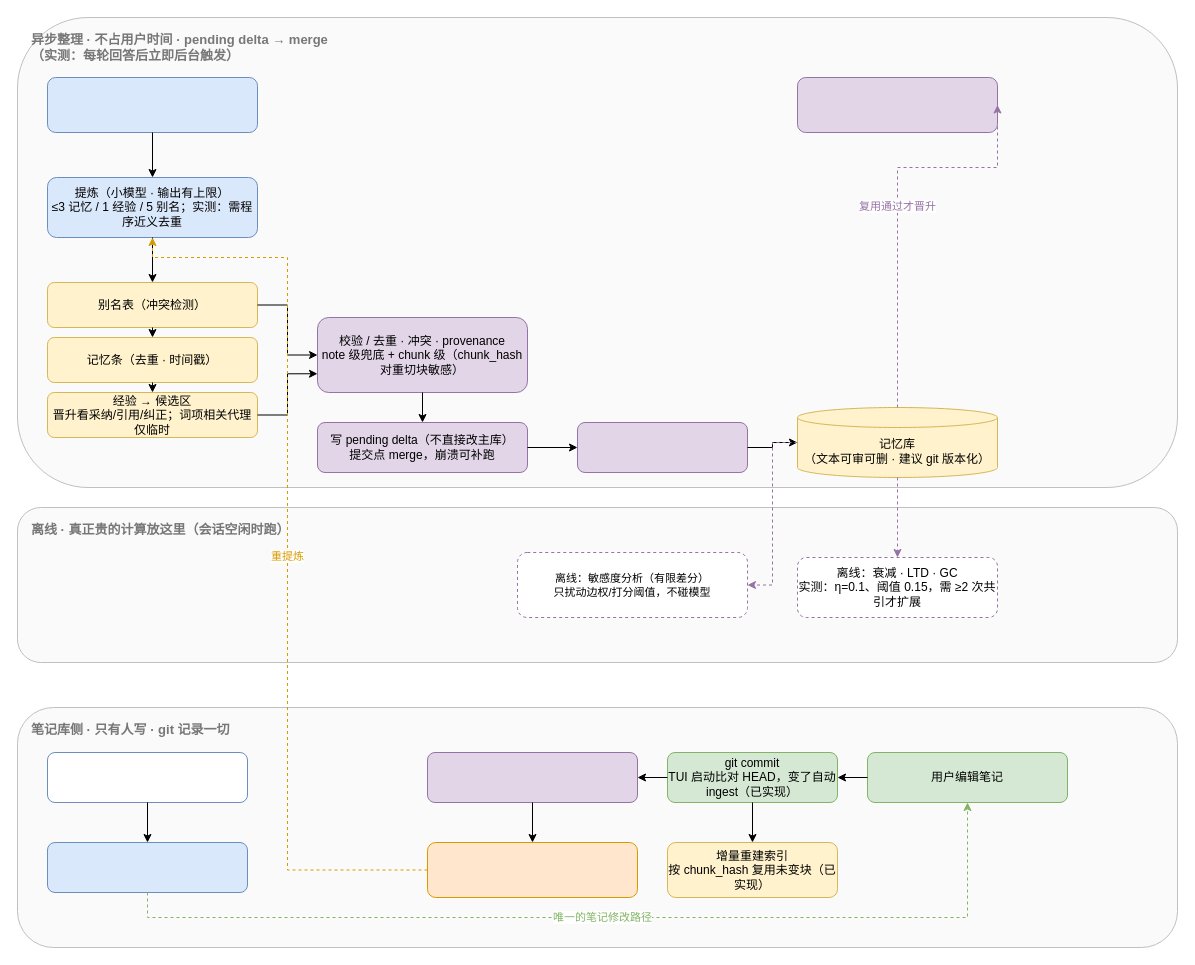
The diagram is 1195 pixels wide and 965 high, and some of its shapes have lost their labels. The shapes that lost their labels are listed below. From the top down, each one's centre as x and y in pixels, then its label:
At (x=152, y=104): "回答结束 立即 / 每 N 轮 / 空闲批处理（已实现）".
At (x=897, y=104): "恒定 skill（稳定规则） 经验晋升进动态块，不拼进稳定前缀".
At (x=662, y=447): "提交点合并".
At (x=147, y=777): "模型：补丁提案（diff） 只读笔记；输出 new_content + unified diff（已实现）".
At (x=532, y=777): "比对 note/chunk 哈希 重切块会误伤（需 note 级兜底 / 稳定 chunk id）".
At (x=147, y=867): "用户在 diff 界面确认 TUI /apply 才写文件；base_hash 校验（已实现）".
At (x=532, y=870): "不符 → 记忆降级 / 标记过期".
